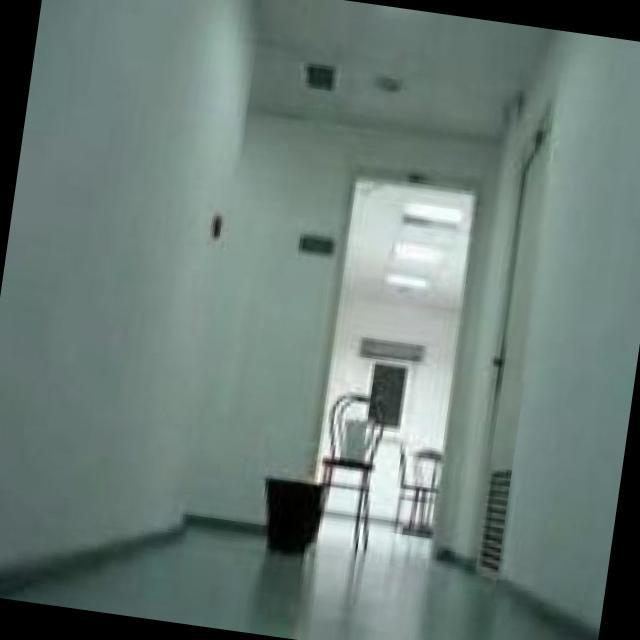Fire: (307, 470, 323, 486)
